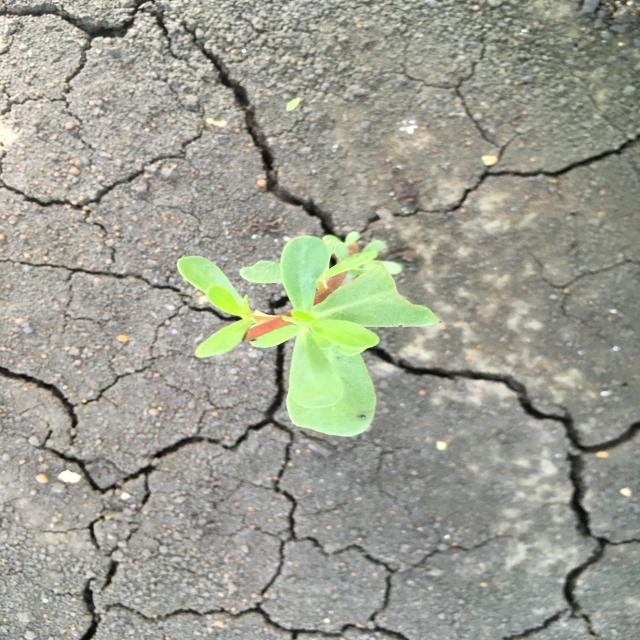Purslane: (174, 231, 443, 438)
